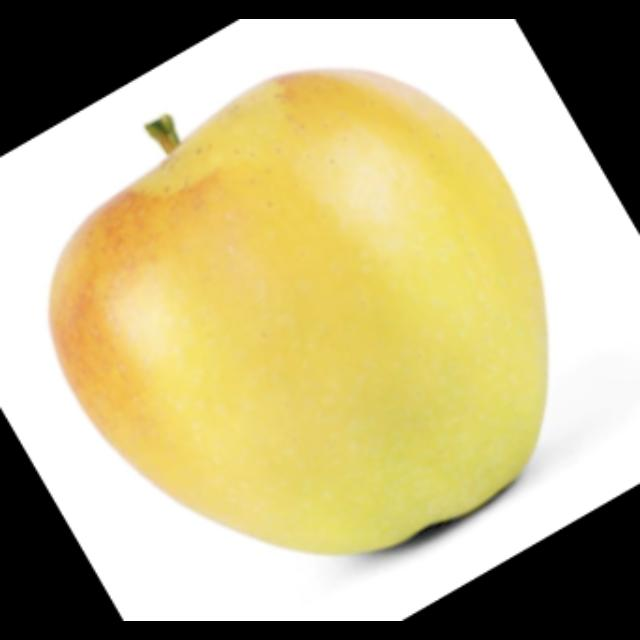Apel Segar: (24, 58, 582, 566)
